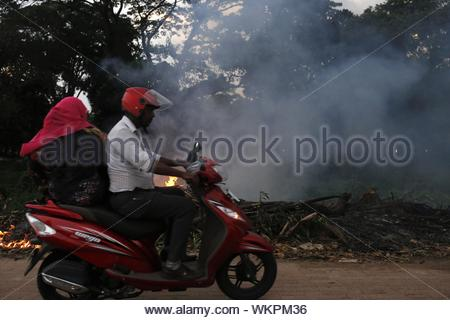scooter: (20, 141, 279, 300)
